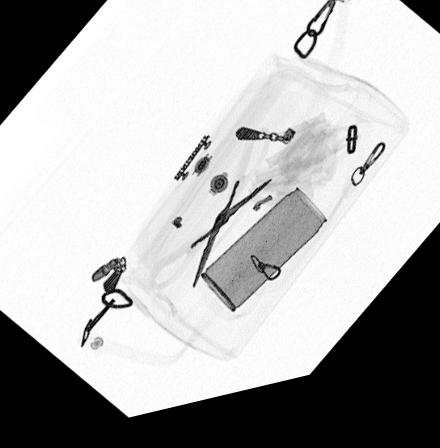Scissors: (144, 136, 276, 298)
